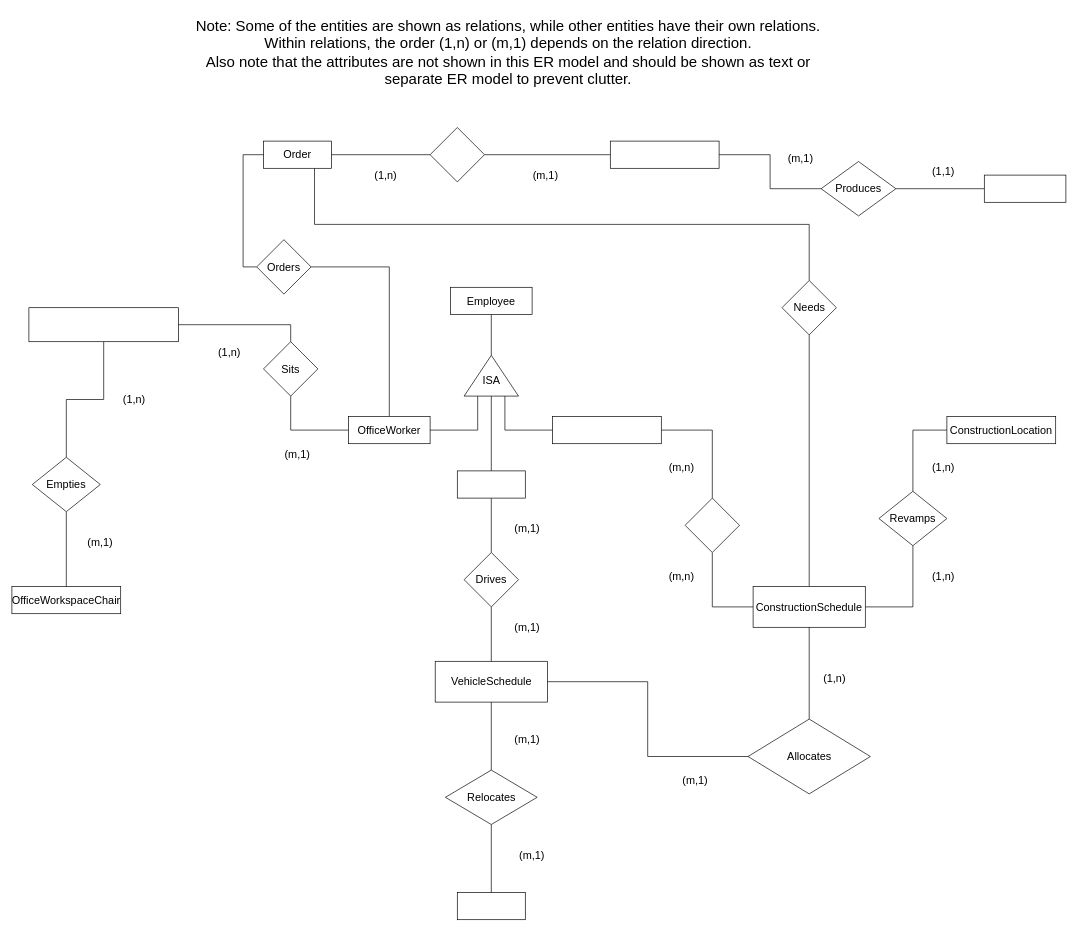
Image size: 1078x932. Some labels were removed from this diagram. Each missing label, with the centre of its shape:
"Builds" goes at (x=712, y=524).
"Buys" goes at (x=457, y=154).
"ConstructionWorker" goes at (x=606, y=430).
"Driver" goes at (x=491, y=484).
"Manufacturer" goes at (x=1025, y=188).
"OfficeWorkspaceSchedule" goes at (x=103, y=324).
"SingleMaterialProduct" goes at (x=664, y=154).
"Vehicle" goes at (x=491, y=906).
